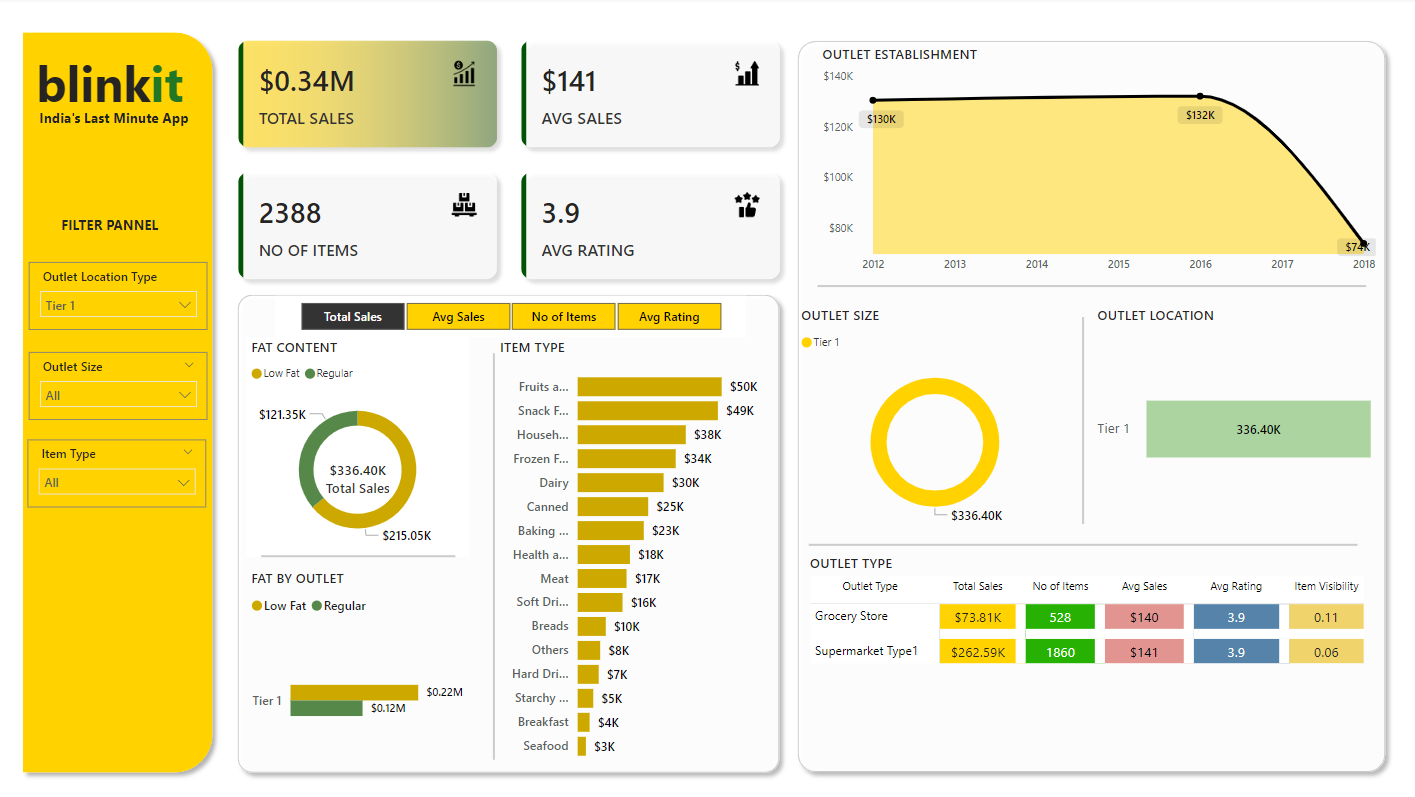

What the dashboard file says about the page in this screenshot:
{"tool":"powerbi","page":{"name":"Page 1","canvas":[1400,800],"ordinal":0},"visuals":[{"type":"shape","box":[13.5,25.5,205.6,750.4],"z":0},{"type":"textbox","box":[31.5,46.5,171.1,90.1],"z":1000},{"type":"textbox","box":[27,105.1,171.1,31.5],"z":2000},{"type":"cardVisual","fields":{"Data":["BlinkIT Grocery Data.Total Sales","BlinkIT Grocery Data.Avg Sales","BlinkIT Grocery Data.No of Items","BlinkIT Grocery Data.Avg Rating"]},"box":[219.1,25.5,570.3,270.2],"z":3000},{"type":"shape","box":[226.6,285.2,553.8,490.8],"z":4000},{"type":"donutChart","title":"FAT CONTENT","fields":{"Y":["BlinkIT Grocery Data.Total Sales"],"Category":["BlinkIT Grocery Data.Item Fat Content"]},"box":[243.1,336.2,220.6,217.6],"z":5000},{"type":"slicer","fields":{"Values":["Metrics.Metrics"]},"box":[271.7,295.7,465.3,40.5],"z":6000},{"type":"cardVisual","fields":{"Data":["BlinkIT Grocery Data.Total Sales"]},"box":[303.2,441.3,102.1,64.5],"z":7000},{"type":"clusteredBarChart","title":"FAT BY OUTLET","fields":{"Y":["BlinkIT Grocery Data.Total Sales"],"Category":["BlinkIT Grocery Data.Outlet Location Type"],"Series":["BlinkIT Grocery Data.Item Fat Content"]},"box":[243.1,565.8,220.6,210.1],"z":8000},{"type":"shape","box":[258.1,532.8,192.1,40.5],"z":9000},{"type":"shape","box":[474.3,352.7,30,402.2],"z":10000},{"type":"barChart","title":"ITEM TYPE","fields":{"Y":["BlinkIT Grocery Data.Total Sales"],"Category":["BlinkIT Grocery Data.Item Type"]},"box":[489.3,336.2,274.7,429.2],"z":11000},{"type":"shape","box":[780.2,34.9,599.2,741.3],"z":12000},{"type":"lineChart","title":"OUTLET ESTABLISHMENT","fields":{"Y":["BlinkIT Grocery Data.Total Sales"],"Category":["BlinkIT Grocery Data.Outlet Establishment Year"]},"box":[808.3,46.9,557.6,234.6],"z":13000},{"type":"shape","box":[808.3,265.4,542.9,40.2],"z":14000},{"type":"donutChart","title":"OUTLET SIZE","fields":{"Y":["BlinkIT Grocery Data.Total Sales"],"Category":["BlinkIT Grocery Data.Outlet Location Type"]},"box":[788.2,305.6,274.8,225.2],"z":15000},{"type":"shape","box":[1056.3,316.4,30.8,205.1],"z":16000},{"type":"funnel","title":"OUTLET LOCATION","fields":{"Y":["Sum(BlinkIT Grocery Data.Sales)"],"Category":["BlinkIT Grocery Data.Outlet Location Type"]},"box":[1080.4,305.6,285.5,225.2],"z":17000},{"type":"shape","box":[800.3,521.5,542.9,40.2],"z":18000},{"type":"pivotTable","title":"OUTLET TYPE","fields":{"Rows":["BlinkIT Grocery Data.Outlet Type"],"Values":["BlinkIT Grocery Data.Total Sales","BlinkIT Grocery Data.No of Items","BlinkIT Grocery Data.Avg Sales","BlinkIT Grocery Data.Avg Rating","Avg(BlinkIT Grocery Data.Item Visibility)"]},"box":[796.3,550.9,569.7,214.5],"z":19000},{"type":"slicer","fields":{"Values":["BlinkIT Grocery Data.Outlet Location Type"]},"box":[28.2,262.7,176.9,67],"z":20000},{"type":"slicer","fields":{"Values":["BlinkIT Grocery Data.Outlet Size"]},"box":[28.2,351.2,176.9,67],"z":21000},{"type":"slicer","fields":{"Values":["BlinkIT Grocery Data.Item Type"]},"box":[26.8,438.3,176.9,67],"z":22000},{"type":"textbox","box":[55.5,211.6,118.6,36],"z":23000}]}

Visuals, with their boxes in screenshot pixels (x1, y1, x2, y2), scaled from the page's 1400x800 canvas onto the 1415x797 screenshot:
shape: [left=14, top=25, right=221, bottom=773]
textbox: [left=32, top=46, right=205, bottom=136]
textbox: [left=27, top=105, right=200, bottom=136]
cardVisual - BlinkIT Grocery Data.Total Sales x BlinkIT Grocery Data.Avg Sales: [left=221, top=25, right=798, bottom=295]
shape: [left=229, top=284, right=789, bottom=773]
"FAT CONTENT" donutChart: [left=246, top=335, right=469, bottom=552]
slicer - Metrics.Metrics: [left=275, top=295, right=745, bottom=335]
cardVisual - BlinkIT Grocery Data.Total Sales: [left=306, top=440, right=410, bottom=504]
"FAT BY OUTLET" clusteredBarChart: [left=246, top=564, right=469, bottom=773]
shape: [left=261, top=531, right=455, bottom=571]
shape: [left=479, top=351, right=510, bottom=752]
"ITEM TYPE" barChart: [left=495, top=335, right=772, bottom=763]
shape: [left=789, top=35, right=1394, bottom=773]
"OUTLET ESTABLISHMENT" lineChart: [left=817, top=47, right=1381, bottom=280]
shape: [left=817, top=264, right=1366, bottom=304]
"OUTLET SIZE" donutChart: [left=797, top=304, right=1074, bottom=529]
shape: [left=1068, top=315, right=1099, bottom=520]
"OUTLET LOCATION" funnel: [left=1092, top=304, right=1381, bottom=529]
shape: [left=809, top=520, right=1358, bottom=560]
"OUTLET TYPE" pivotTable: [left=805, top=549, right=1381, bottom=763]
slicer - BlinkIT Grocery Data.Outlet Location Type: [left=29, top=262, right=207, bottom=328]
slicer - BlinkIT Grocery Data.Outlet Size: [left=29, top=350, right=207, bottom=417]
slicer - BlinkIT Grocery Data.Item Type: [left=27, top=437, right=206, bottom=503]
textbox: [left=56, top=211, right=176, bottom=247]
